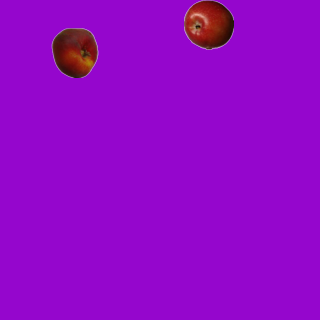Apple Braeburn: (183, 0, 233, 49)
Nectarine Flat: (49, 27, 99, 77)
